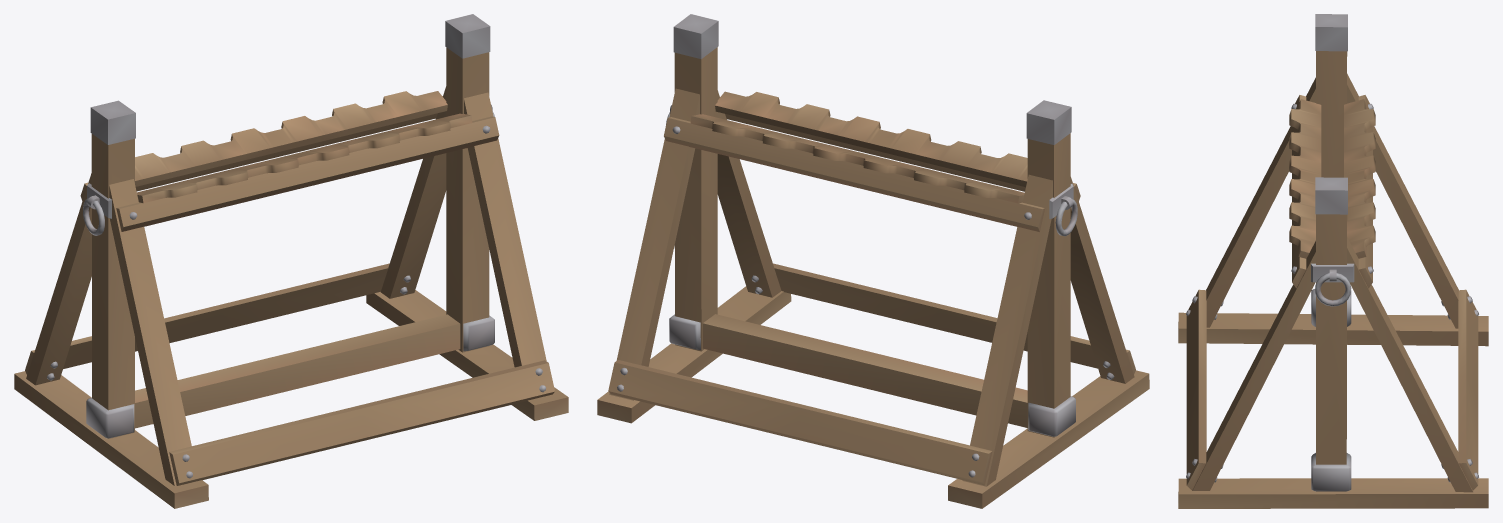
The model's file is WeaponStand.glb.
3 views of the same model, side by side, from view 1: azimuth 30°, elevation 25°; view 2: azimuth 150°, elevation 25°; view 3: azimuth 270°, elevation 25° (orthographic). The views are drawn at different scales.
Parts seen in each view (by area): view 1: WeaponStand_40410a, WeaponStand_64d94e; view 2: WeaponStand_40410a, WeaponStand_64d94e; view 3: WeaponStand_40410a, WeaponStand_64d94e.
Boxes of the visible parts, x1,y1,x2,y2 form: WeaponStand_40410a: (14,47,568,508); WeaponStand_64d94e: (47,14,545,478); WeaponStand_40410a: (597,47,1149,508); WeaponStand_64d94e: (617,14,1114,477); WeaponStand_40410a: (1178,51,1488,508); WeaponStand_64d94e: (1186,14,1478,491).
Bounding box in the file's own units: 1.39 × 1.11 × 0.9831.
